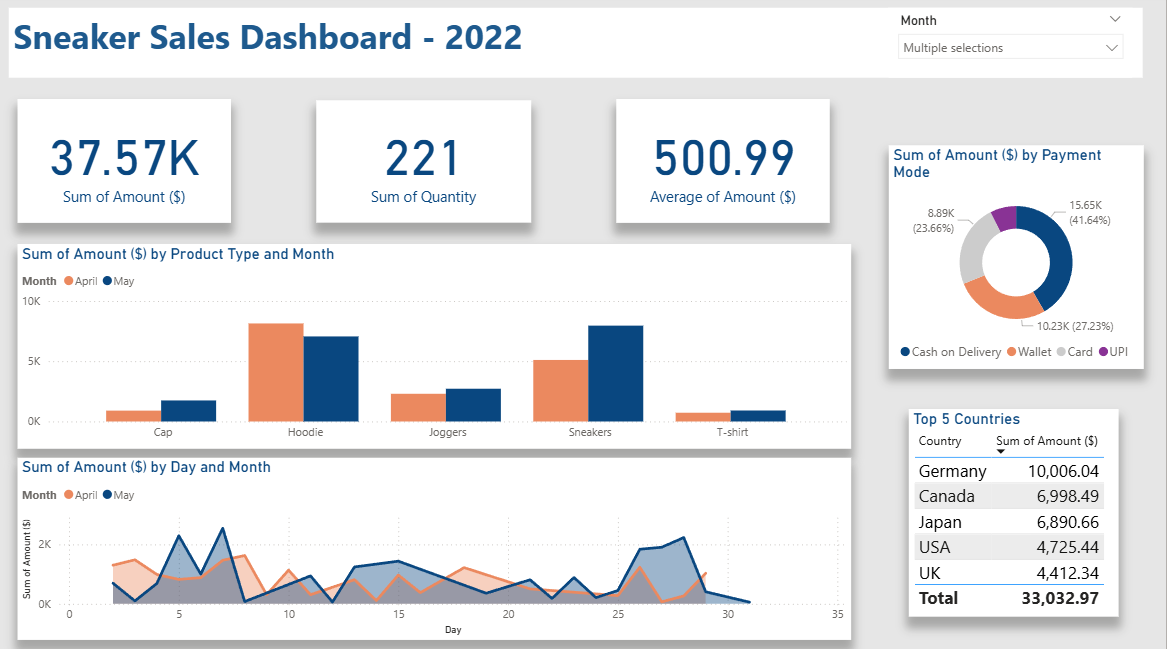

The dashboard page shown, as its layout file describes it:
{"tool":"powerbi","page":{"name":"Page 2","canvas":[1280,720],"ordinal":0},"visuals":[{"type":"textbox","box":[9.6,15.1,1244.6,76.8],"z":0},{"type":"slicer","fields":{"Values":["sneakers_streetwear_sales_data.Order Month.Variation.Date Hierarchy.Month"]},"box":[975.6,15.1,267.6,76.8],"z":1000},{"type":"card","fields":{"Values":["Sum(sneakers_streetwear_sales_data.Amount ($))"]},"box":[19.2,115.3,234.6,135.8],"z":2000},{"type":"card","fields":{"Values":["Sum(sneakers_streetwear_sales_data.Quantity)"]},"box":[347.2,116.6,236,134.5],"z":3000},{"type":"card","fields":{"Values":["Avg(sneakers_streetwear_sales_data.Amount ($))"]},"box":[676.5,115.3,234.6,135.8],"z":4000},{"type":"clusteredColumnChart","fields":{"Category":["sneakers_streetwear_sales_data.Product Type"],"Y":["Sum(sneakers_streetwear_sales_data.Amount ($))"],"Series":["sneakers_streetwear_sales_data.Order Month.Variation.Date Hierarchy.Month"]},"box":[19.2,274.4,915.3,225],"z":5000},{"type":"areaChart","fields":{"Category":["sneakers_streetwear_sales_data.Date.Variation.Date Hierarchy.Day"],"Y":["Sum(sneakers_streetwear_sales_data.Amount ($))"],"Series":["sneakers_streetwear_sales_data.Order Month.Variation.Date Hierarchy.Month"]},"box":[19.2,509.1,915.3,200.3],"z":6000},{"type":"donutChart","fields":{"Y":["Sum(sneakers_streetwear_sales_data.Amount ($))"],"Category":["sneakers_streetwear_sales_data.Payment Mode"]},"box":[975.6,166,279.9,245.6],"z":7000},{"type":"tableEx","title":"Top 5 Countries","fields":{"Values":["sneakers_streetwear_sales_data.Country","Sum(sneakers_streetwear_sales_data.Amount ($))"]},"box":[997.6,455.6,230.5,227.8],"z":8000}]}

Visuals, with their boxes in screenshot pixels (x1, y1, x2, y2), scaled from the page's 1280x720 canvas onto the 1167x649 screenshot:
textbox: (x1=9, y1=14, x2=1143, y2=83)
slicer - sneakers_streetwear_sales_data.Order Month.Variation.Date Hierarchy.Month: (x1=889, y1=14, x2=1133, y2=83)
card - Sum(sneakers_streetwear_sales_data.Amount ($)): (x1=18, y1=104, x2=231, y2=226)
card - Sum(sneakers_streetwear_sales_data.Quantity): (x1=317, y1=105, x2=532, y2=226)
card - Avg(sneakers_streetwear_sales_data.Amount ($)): (x1=617, y1=104, x2=831, y2=226)
clusteredColumnChart - sneakers_streetwear_sales_data.Product Type x Sum(sneakers_streetwear_sales_data.Amount ($)): (x1=18, y1=247, x2=852, y2=450)
areaChart - sneakers_streetwear_sales_data.Date.Variation.Date Hierarchy.Day x Sum(sneakers_streetwear_sales_data.Amount ($)): (x1=18, y1=459, x2=852, y2=639)
donutChart - Sum(sneakers_streetwear_sales_data.Amount ($)) x sneakers_streetwear_sales_data.Payment Mode: (x1=889, y1=150, x2=1145, y2=371)
"Top 5 Countries" tableEx: (x1=910, y1=411, x2=1120, y2=616)
